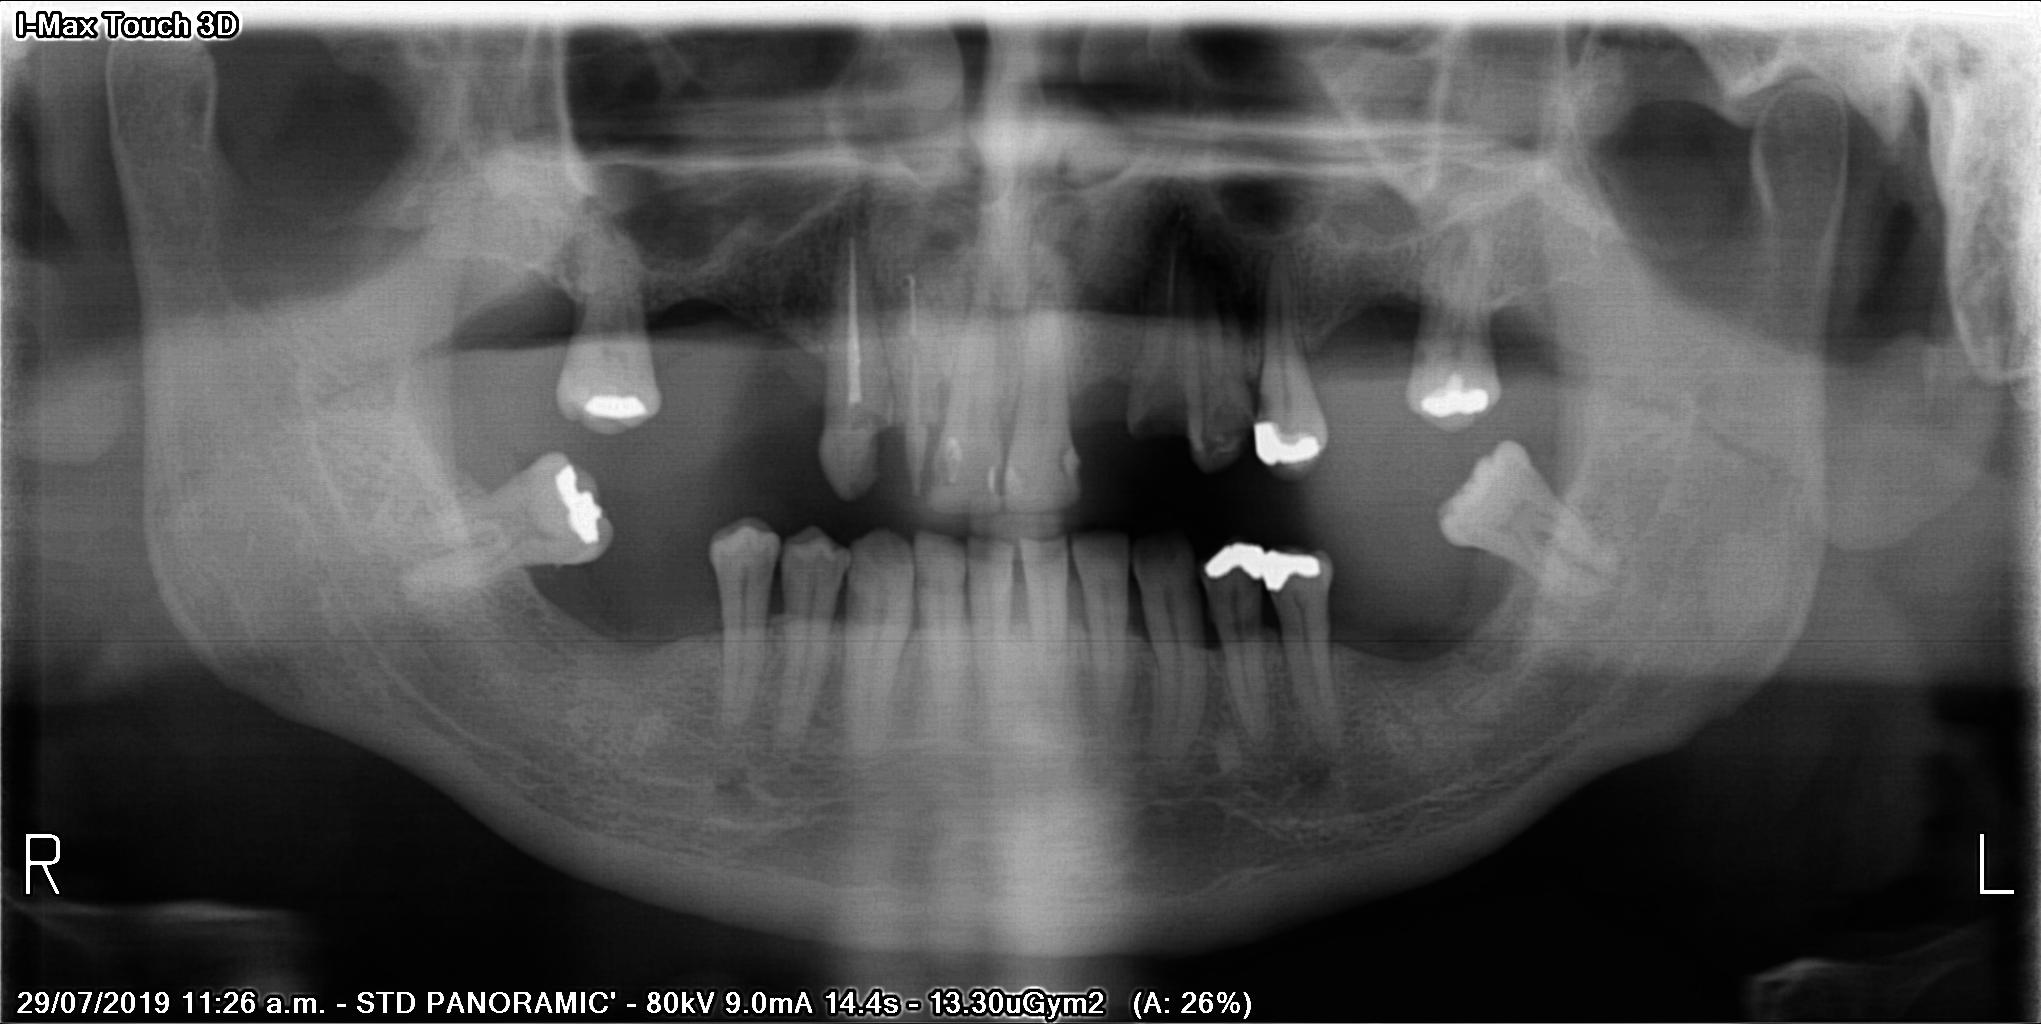Çürük: (538, 461, 623, 554), (1200, 545, 1336, 597), (1406, 372, 1512, 426), (1251, 422, 1337, 469), (578, 392, 650, 431), (1067, 448, 1086, 474)
Çürük Bölgesi: (1201, 404, 1259, 468), (867, 423, 892, 491), (985, 462, 1005, 500), (1056, 441, 1069, 478)
